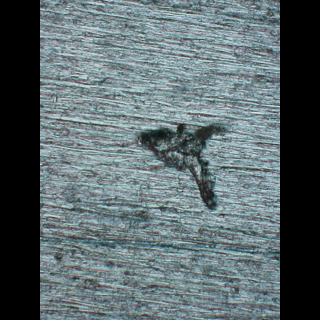d: (134, 118, 233, 212)
